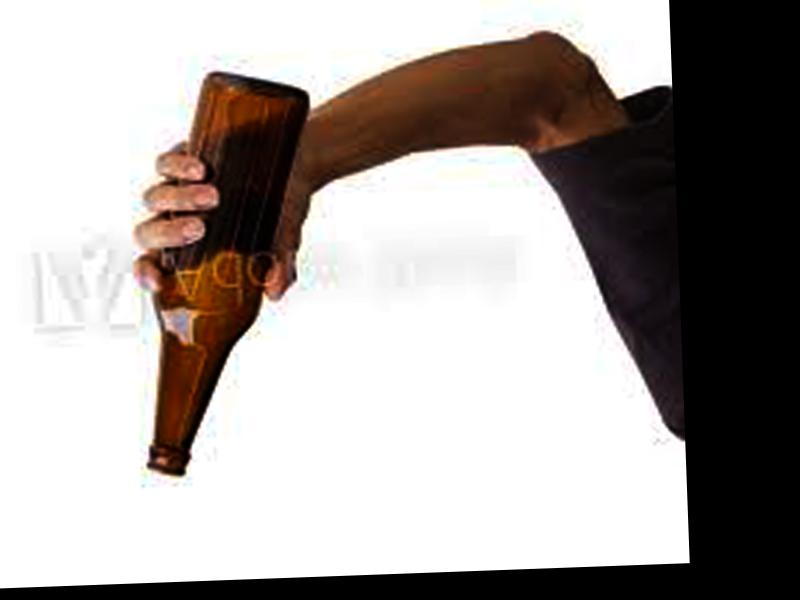Beer: (130, 68, 323, 478)
